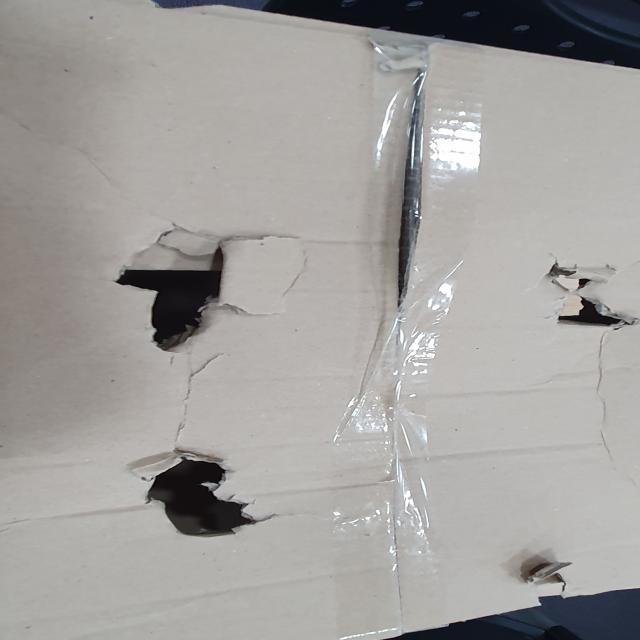hole: (125, 450, 271, 544), (107, 254, 251, 344), (534, 264, 639, 329)
